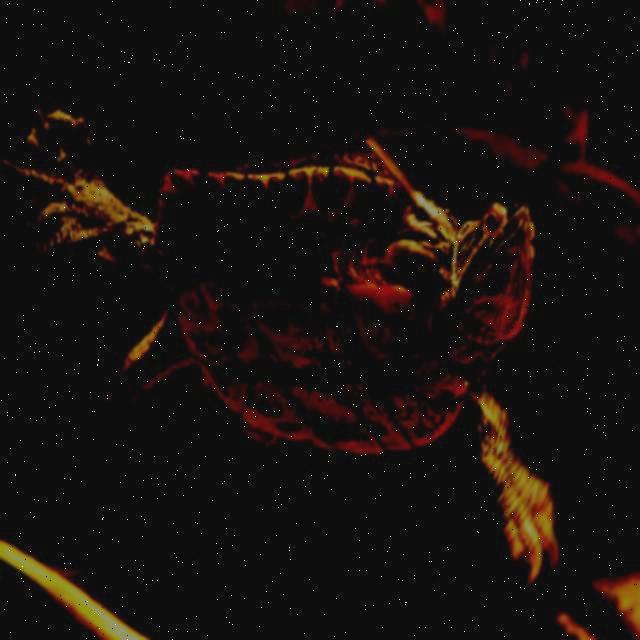tortoise: (27, 124, 591, 582)
